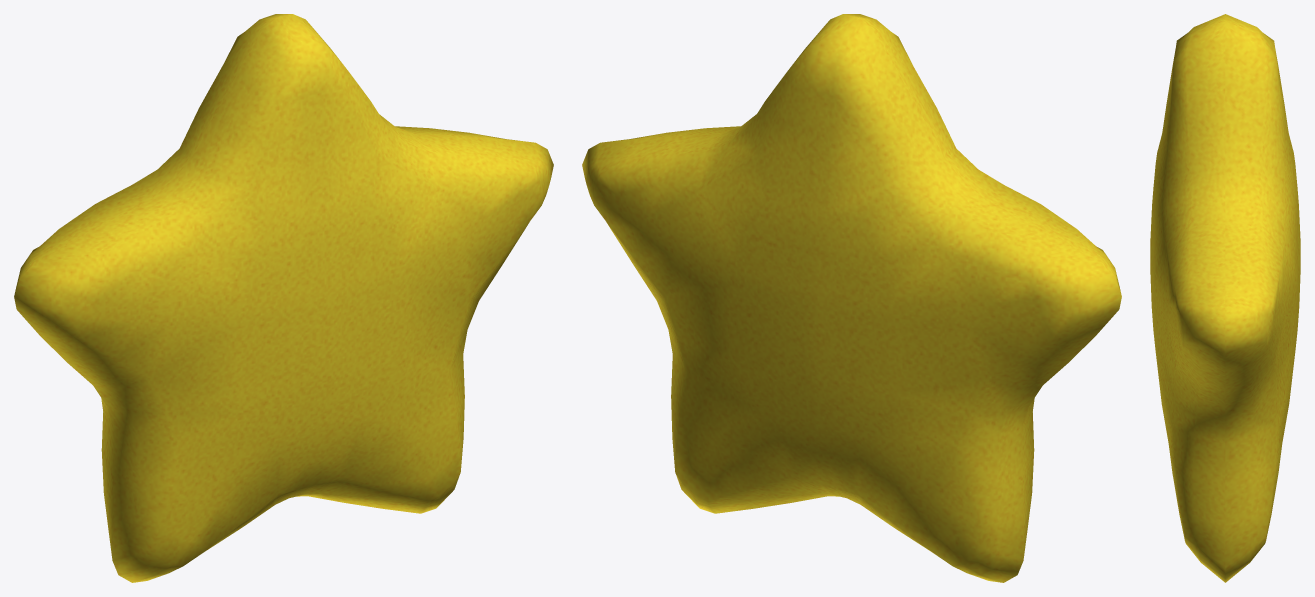
Rendered from star.FBX.
3 renders of one model, left to right at view 1: azimuth 30°, elevation 25°; view 2: azimuth 150°, elevation 25°; view 3: azimuth 270°, elevation 25°, orthographic. The views are drawn at different scales.
Parts seen in each view (by area): view 1: Start_Body; view 2: Start_Body; view 3: Start_Body.
Boxes of the visible parts, x1,y1,x2,y2 form: Start_Body: (14,14,553,582); Start_Body: (582,14,1121,582); Start_Body: (1150,14,1300,582).
Size of the model in its own units: 8.23 by 7.74 by 2.12.
